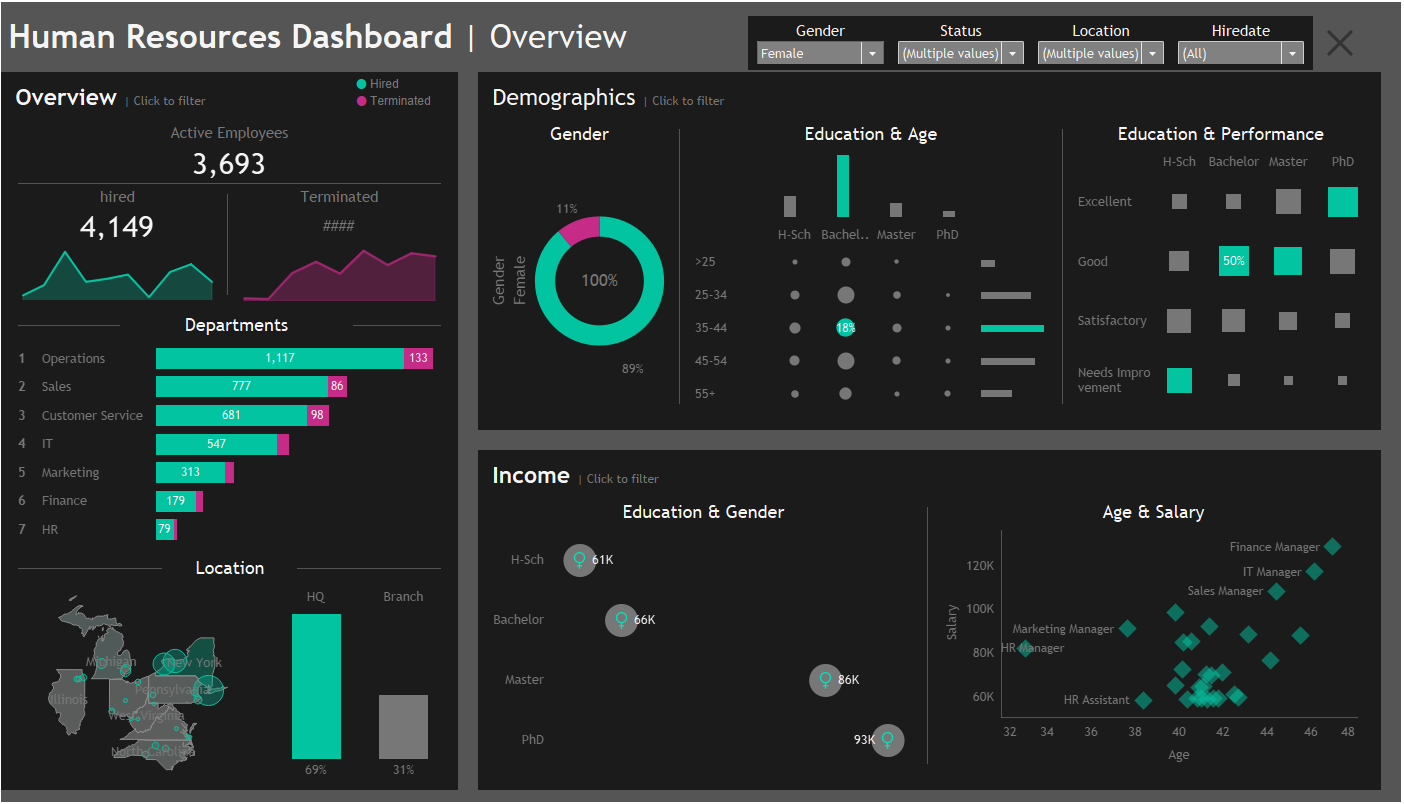

What the dashboard file says about the page in this screenshot:
{"tool":"tableau","page":{"name":"HR Dashboard","canvas":[1400,800],"ordinal":0},"visuals":[{"type":"text","box":[110,0,693,70]},{"type":"blank","box":[803,0,577,70]},{"type":"filter","title":"Gender vs Education level","param":"[federated.1w2r0qb0wcpkq01fmew5211hzvvi].[none:Gender:nk]","box":[749,16,141,50]},{"type":"filter","title":"Gender vs Education level","param":"[federated.1w2r0qb0wcpkq01fmew5211hzvvi].[none:Calculation_566890662182375424:nk","box":[890,16,140,50]},{"type":"filter","title":"Gender vs Education level","param":"[federated.1w2r0qb0wcpkq01fmew5211hzvvi].[none:Calculation_188588274449854466:nk","box":[1030,16,140,50]},{"type":"filter","title":"Gender vs Education level","param":"[federated.1w2r0qb0wcpkq01fmew5211hzvvi].[yr:Hiredate:ok]","box":[1170,16,140,50]},{"type":"image","param":"Image/Logo.png","box":[20,20,70,55]},{"type":"dashboard-object","box":[1320,22,39,38]},{"type":"text","box":[352,75,91,34]},{"type":"text","box":[117,77,333,35]},{"type":"text","box":[484,77,889,35]},{"type":"dashboard-object","box":[30,85,50,50]},{"type":"text","box":[117,112,333,32]},{"type":"text","box":[484,117,189,29]},{"type":"blank","box":[678,117,1,295]},{"type":"text","box":[684,117,372,29]},{"type":"blank","box":[1061,117,1,295]},{"type":"text","box":[1067,117,306,29]},{"type":"dashboard-object","box":[30,135,50,50]},{"type":"worksheet","title":"BAN Active","mark":"Text","box":[117,144,333,37]},{"type":"worksheet","title":"Gender","mark":"Pie","rows":["Gender"],"cols":["Calculation_1471832709374812161","Calculation_1471832709374812161"],"box":[484,146,189,266]},{"type":"worksheet","title":"Education Levels","mark":"Bar","rows":["Calculation_1857453410222510080"],"cols":["Education Level"],"box":[684,146,372,73]},{"type":"worksheet","title":"Education vs Performance","mark":"Square","rows":["Performance Rating"],"cols":["Education Level"],"box":[1067,146,306,266]},{"type":"blank","box":[117,181,333,1]},{"type":"text","box":[117,182,165,26]},{"type":"blank","box":[282,182,1,121]},{"type":"text","box":[283,182,167,26]},{"type":"worksheet","title":"BAN Hired","mark":"Text","box":[117,208,165,34]},{"type":"worksheet","title":"BAN Terminated","mark":"Text","box":[283,208,167,32]},{"type":"worksheet","title":"Age vs Education","mark":"Circle","rows":["Calculation_1471832709377675267"],"cols":["Education Level"],"box":[684,219,292,193]},{"type":"worksheet","title":"Age Groups","mark":"Bar","rows":["Calculation_1471832709377675267"],"cols":["Calculation_1857453410222510080"],"box":[976,219,74,193]},{"type":"worksheet","title":"Terminated by year","mark":"Line","rows":["Calculation_1857453410223058945","Calculation_1857453410223058945"],"cols":["Termdate"],"box":[283,240,167,63]},{"type":"worksheet","title":"Hired by year","mark":"Line","rows":["Calculation_1857453410222510080","Calculation_1857453410222510080"],"cols":["Hiredate"],"box":[117,242,165,61]},{"type":"blank","box":[127,308,102,30]},{"type":"text","box":[229,308,123,30]},{"type":"blank","box":[352,308,88,30]},{"type":"worksheet","title":"Department","mark":"Bar","rows":["Calculation_188588274448809985","Department"],"cols":["Calculation_1857453410222510080"],"box":[117,338,333,208]},{"type":"text","box":[484,455,889,35]},{"type":"text","box":[484,495,437,29]},{"type":"blank","box":[926,495,1,277]},{"type":"text","box":[932,495,441,29]},{"type":"worksheet","title":"Gender vs Education level","mark":"Square","rows":["Education Level"],"cols":["Salary","Salary"],"box":[484,524,437,248]},{"type":"worksheet","title":"Age vs Salary","mark":"Shape","rows":["Salary"],"cols":["Calculation_1471832709376806914"],"box":[932,524,441,248]},{"type":"blank","box":[127,551,107,30]},{"type":"text","box":[234,551,99,30]},{"type":"blank","box":[333,551,107,30]},{"type":"worksheet","title":"Map States","mark":"Automatic","box":[117,581,260,200]},{"type":"worksheet","title":"Location","mark":"Bar","rows":["Calculation_1857453410222510080"],"cols":["Calculation_188588274449854466","Calculation1"],"box":[377,581,73,200]}]}

Visuals, with their boxes in screenshot pixels (x1, y1, x2, y2), scaled from the page's 1400x800 canvas onto the 1404x804 screenshot:
text: Rect(110, 0, 805, 70)
blank: Rect(805, 0, 1384, 70)
"Gender vs Education level" filter: Rect(751, 16, 893, 66)
"Gender vs Education level" filter: Rect(893, 16, 1033, 66)
"Gender vs Education level" filter: Rect(1033, 16, 1173, 66)
"Gender vs Education level" filter: Rect(1173, 16, 1314, 66)
image: Rect(20, 20, 90, 75)
dashboard-object: Rect(1324, 22, 1363, 60)
text: Rect(353, 75, 444, 110)
text: Rect(117, 77, 451, 113)
text: Rect(485, 77, 1377, 113)
dashboard-object: Rect(30, 85, 80, 136)
text: Rect(117, 113, 451, 145)
text: Rect(485, 118, 675, 147)
blank: Rect(680, 118, 681, 414)
text: Rect(686, 118, 1059, 147)
blank: Rect(1064, 118, 1065, 414)
text: Rect(1070, 118, 1377, 147)
dashboard-object: Rect(30, 136, 80, 186)
"BAN Active" worksheet (Text marks): Rect(117, 145, 451, 182)
"Gender" worksheet (Pie marks): Rect(485, 147, 675, 414)
"Education Levels" worksheet (Bar marks): Rect(686, 147, 1059, 220)
"Education vs Performance" worksheet (Square marks): Rect(1070, 147, 1377, 414)
blank: Rect(117, 182, 451, 183)
text: Rect(117, 183, 283, 209)
blank: Rect(283, 183, 284, 305)
text: Rect(284, 183, 451, 209)
"BAN Hired" worksheet (Text marks): Rect(117, 209, 283, 243)
"BAN Terminated" worksheet (Text marks): Rect(284, 209, 451, 241)
"Age vs Education" worksheet (Circle marks): Rect(686, 220, 979, 414)
"Age Groups" worksheet (Bar marks): Rect(979, 220, 1053, 414)
"Terminated by year" worksheet (Line marks): Rect(284, 241, 451, 305)
"Hired by year" worksheet (Line marks): Rect(117, 243, 283, 305)
blank: Rect(127, 310, 230, 340)
text: Rect(230, 310, 353, 340)
blank: Rect(353, 310, 441, 340)
"Department" worksheet (Bar marks): Rect(117, 340, 451, 549)
text: Rect(485, 457, 1377, 492)
text: Rect(485, 497, 924, 527)
blank: Rect(929, 497, 930, 776)
text: Rect(935, 497, 1377, 527)
"Gender vs Education level" worksheet (Square marks): Rect(485, 527, 924, 776)
"Age vs Salary" worksheet (Shape marks): Rect(935, 527, 1377, 776)
blank: Rect(127, 554, 235, 584)
text: Rect(235, 554, 334, 584)
blank: Rect(334, 554, 441, 584)
"Map States" worksheet: Rect(117, 584, 378, 785)
"Location" worksheet (Bar marks): Rect(378, 584, 451, 785)
